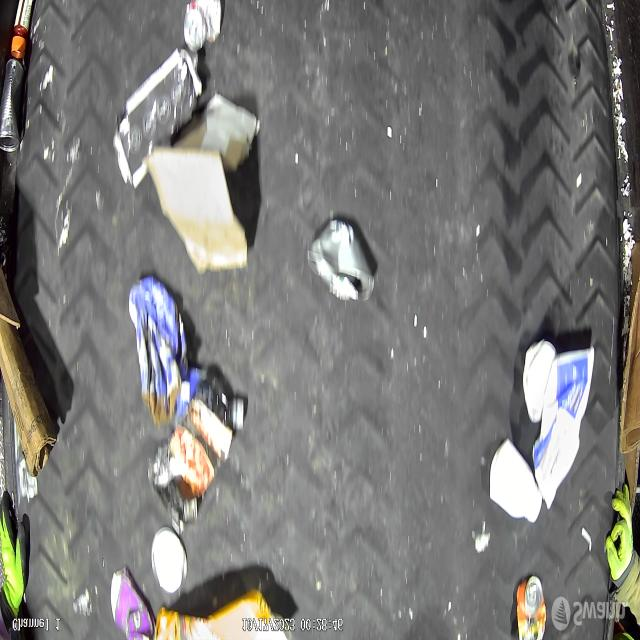can: (308, 220, 374, 303), (150, 524, 189, 595), (0, 59, 26, 152), (182, 0, 223, 54), (516, 576, 546, 640)
